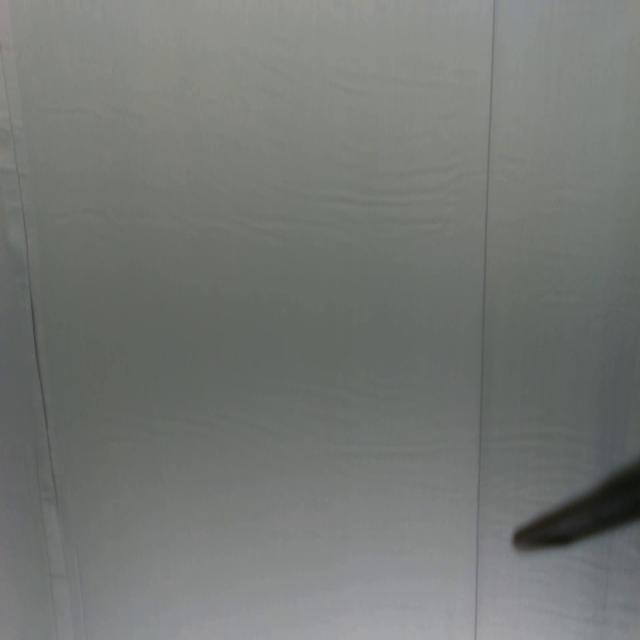crease: (0, 47, 59, 500), (472, 0, 498, 640)
